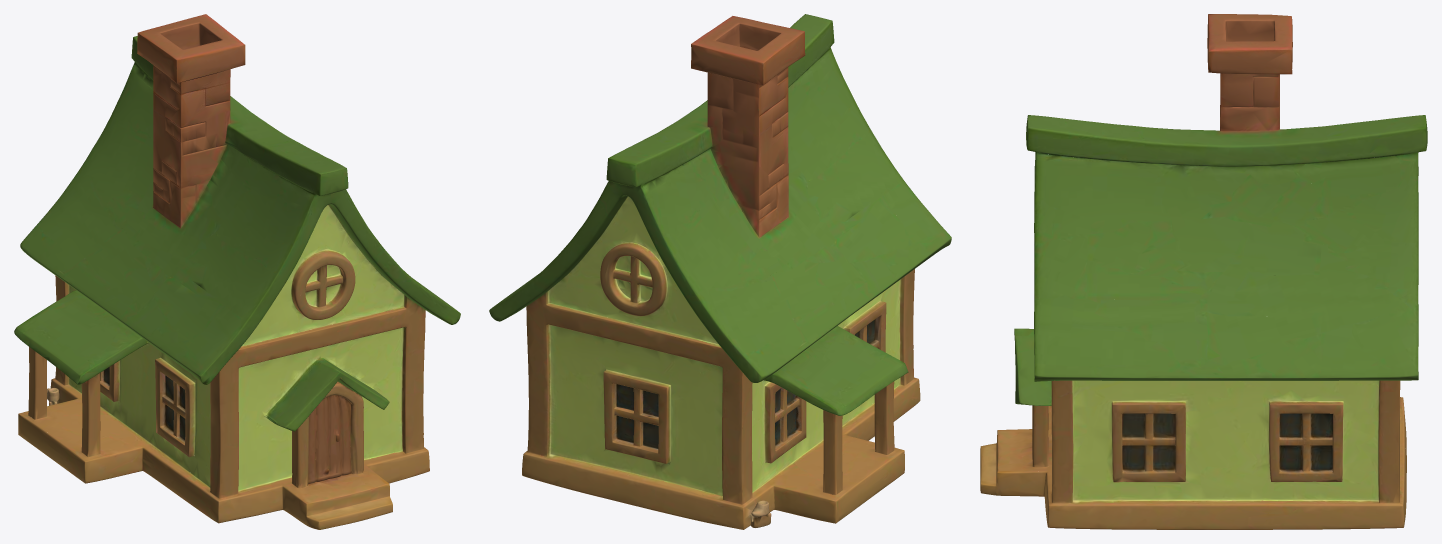
The model's file is AH_ENV_CottageTimber_Game_v01.glb.
The picture shows the model from 3 angles, left to right: view 1: azimuth 30°, elevation 25°; view 2: azimuth 150°, elevation 25°; view 3: azimuth 270°, elevation 25°; orthographic projection. The views are drawn at different scales.
Parts seen in each view (by area): view 1: tripo_node_3f3ccc38-b5d9-4f5f-972d-f2031947ce98; view 2: tripo_node_3f3ccc38-b5d9-4f5f-972d-f2031947ce98; view 3: tripo_node_3f3ccc38-b5d9-4f5f-972d-f2031947ce98.
Boxes of the visible parts, <box> form: tripo_node_3f3ccc38-b5d9-4f5f-972d-f2031947ce98: <box>14,14,460,529</box>; tripo_node_3f3ccc38-b5d9-4f5f-972d-f2031947ce98: <box>489,14,951,529</box>; tripo_node_3f3ccc38-b5d9-4f5f-972d-f2031947ce98: <box>980,14,1427,529</box>.
Size of the model in its own units: 0.7706 by 0.9802 by 0.9305.
1 material, 1 textured.
